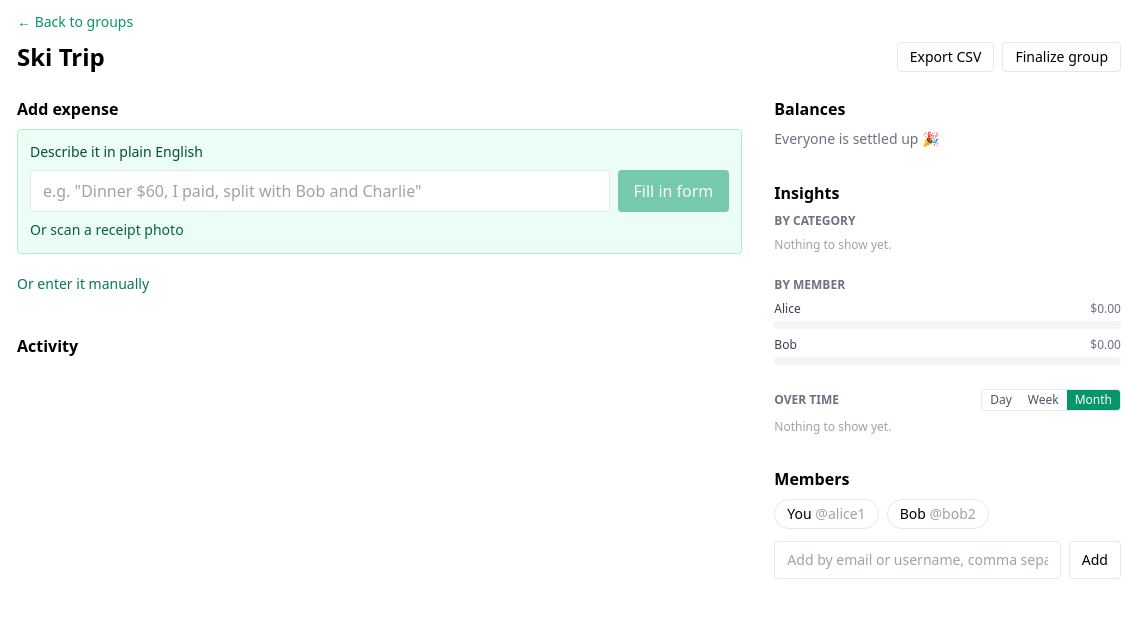
GroupPage - adding an expense › keeps the manual fields collapsed until asked, then shows them
This screenshot has width=1138, height=624.
Expected: the heading "Ski Trip" is shown, [17, 41, 105, 73]
Expected: the field with placeholder "e.g. \"Dinner $60, I paid, split with Bob and Charlie\"" is shown, [30, 170, 610, 212]
What coordinates should you click on to do the following:
click the button "Or enter it manually"
I would click on:
 (83, 284)
Its box is [17, 266, 149, 302].
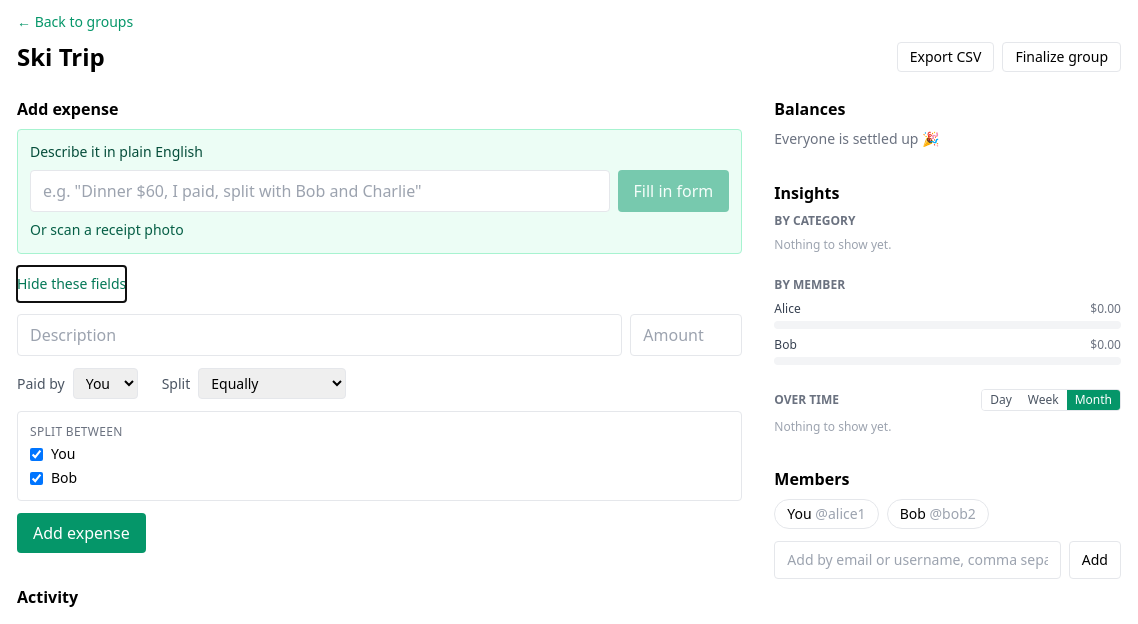
Expected: the field with placeholder "Description" is shown, [17, 314, 622, 356]
Expected: the button "Add expense" is shown, [17, 513, 146, 553]
